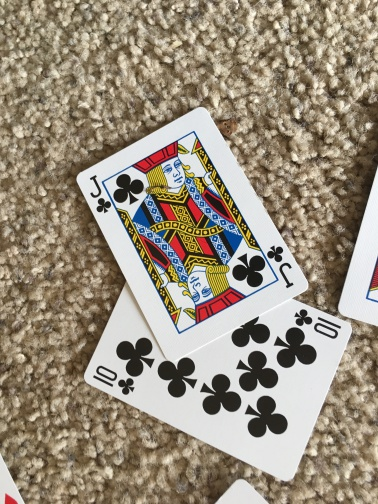jack: (75, 106, 301, 331)
ten: (82, 305, 352, 482)
